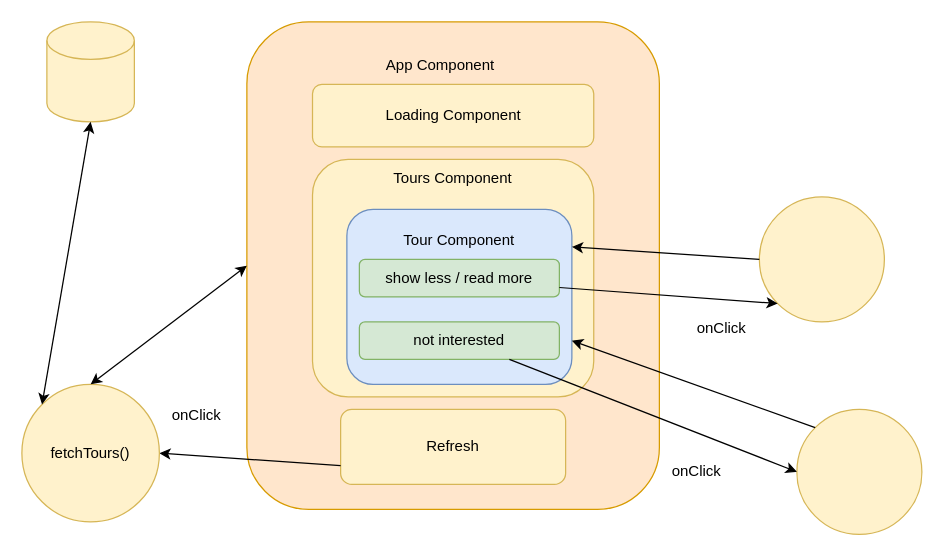
The diagram is 944 pixels wide and 556 high, and some of its shapes have lost their labels. Each missing label, with the box of its shape:
API: (46, 21, 134, 122)
removeTour: (796, 408, 922, 534)
setReadMore: (758, 196, 884, 322)
